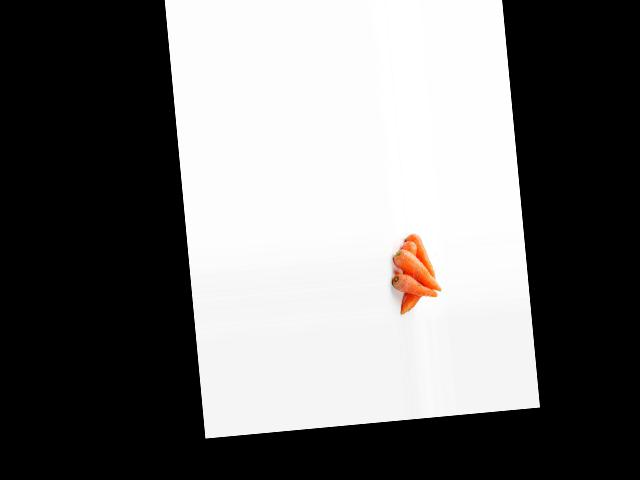carrot: (390, 269, 436, 302)
